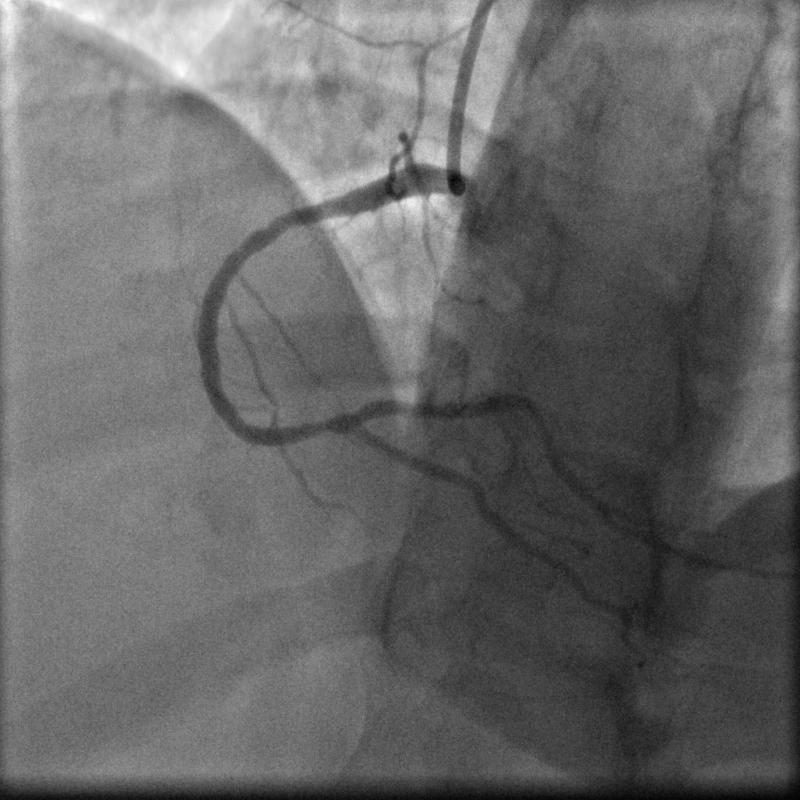Stenosis: (306, 415, 340, 441)
